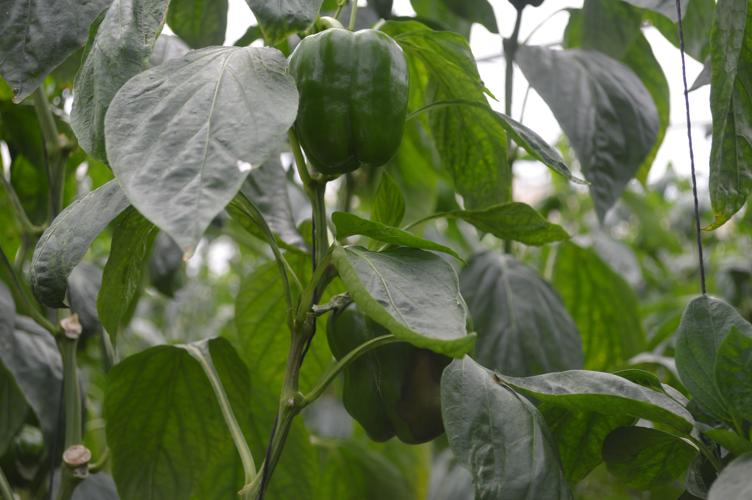BellPepper: (324, 302, 451, 443), (288, 30, 409, 176)
